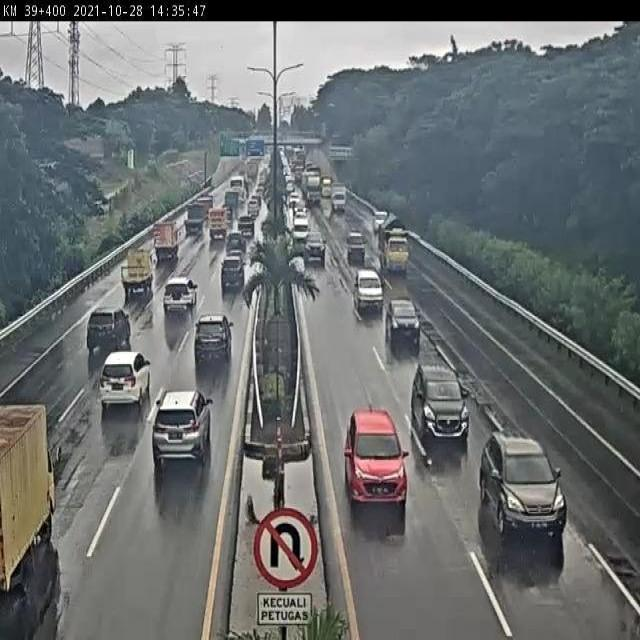big truck: (306, 176, 322, 209)
car: (493, 428, 566, 552), (403, 364, 474, 443), (348, 416, 412, 503), (141, 391, 205, 466), (106, 348, 147, 413), (89, 301, 125, 351), (395, 300, 425, 351), (199, 314, 228, 366), (128, 241, 153, 299), (355, 274, 385, 322), (166, 280, 200, 321), (220, 252, 245, 295), (349, 231, 372, 269), (226, 228, 244, 253), (294, 217, 308, 243)
small truck: (0, 400, 75, 636), (155, 221, 181, 268), (384, 220, 405, 272), (190, 203, 207, 232), (303, 240, 325, 260), (212, 208, 223, 243), (333, 188, 345, 213)
